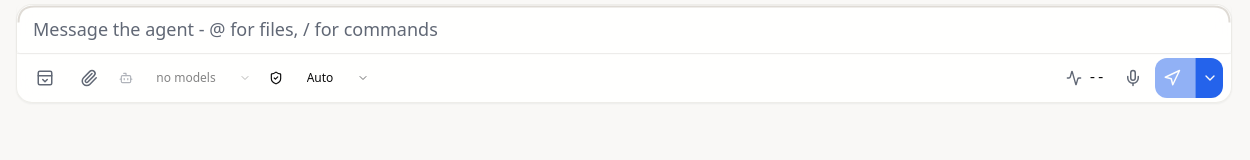
Scenario: Composer › keeps the command visible and locked while shell execution is pending
The image size is (1250, 160).
Type "!sleep 1" into the text box with test id "composer-input" at (624, 29), box [17,5,1231,53]
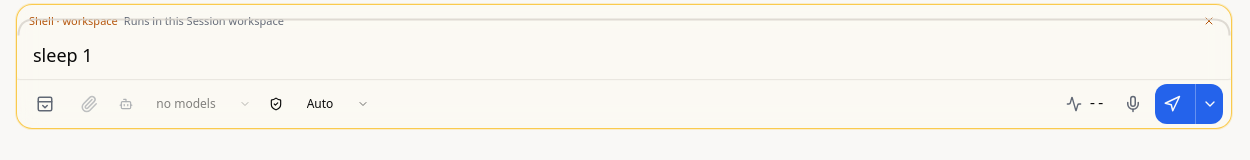
Press Enter in the text box with test id "composer-input", box [17,31,1231,79]
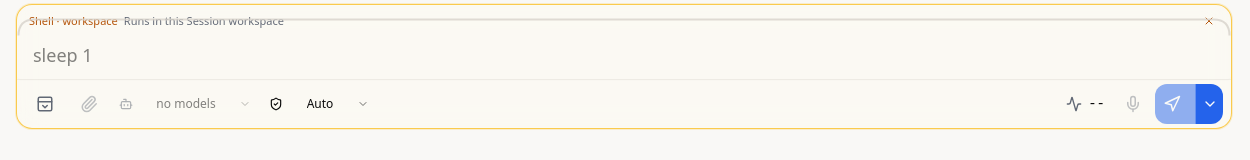
Expected: the text box with test id "composer-input" holds "sleep 1", [17,31,1231,79]
Expected: the element with test id "composer-shell-mode" is shown, [17,5,1231,31]
Expected: the text box with test id "composer-input" is disabled, [17,31,1231,79]
